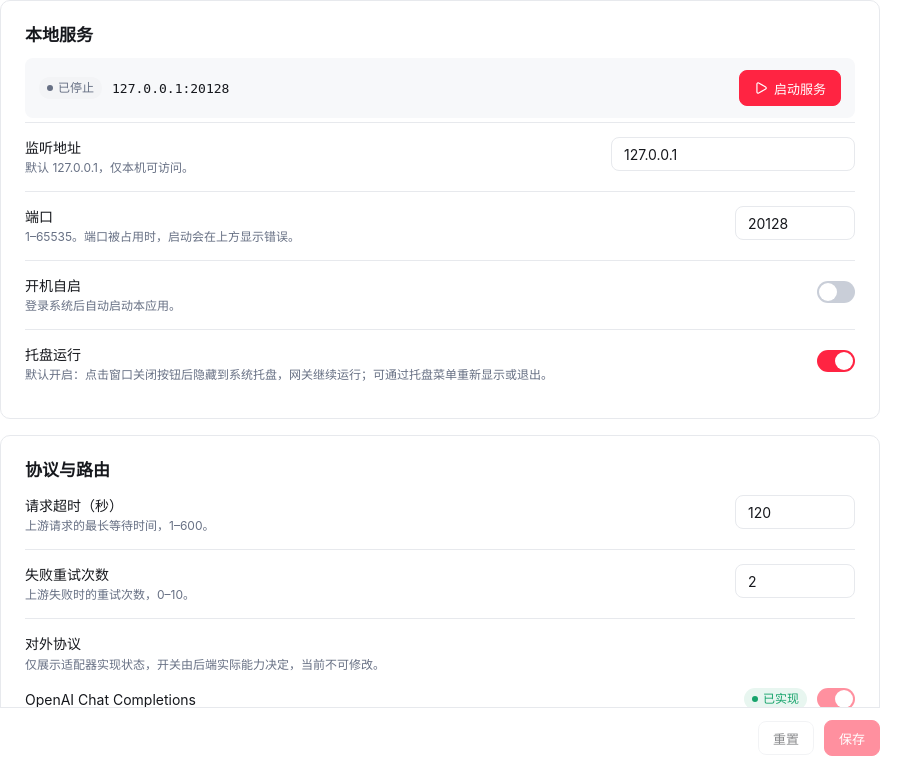
Scenario: SettingsView › 点击启动后以后端刷新的真实状态为准（启动失败仍显示已停止与错误）
What coordinates should you click on to do the following:
click the button with test id "gateway-toggle"
I would click on:
 (790, 88)
Its box is [739,70,841,106].
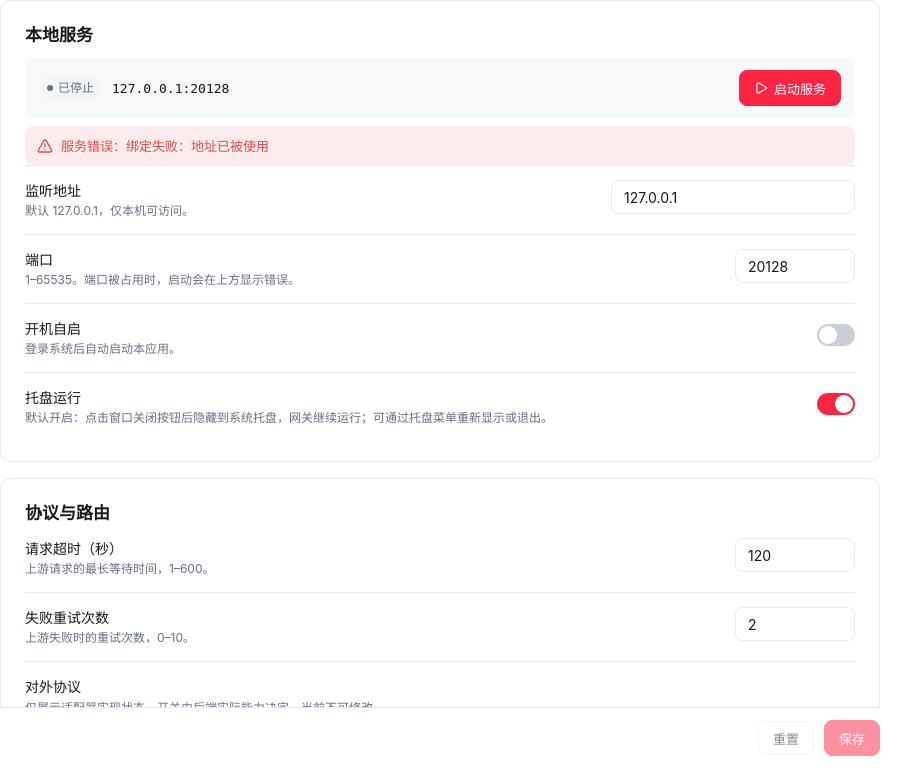
Check: the element with test id "gateway-state" reads "已停止", box [58,80,94,95]
Check: the message with test id "gateway-error" shows "绑定失败", box [61,138,269,154]
